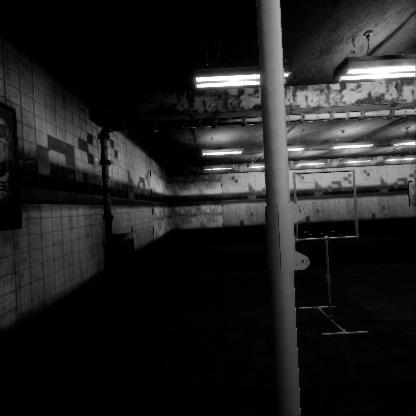gate: (292, 173, 363, 247)
